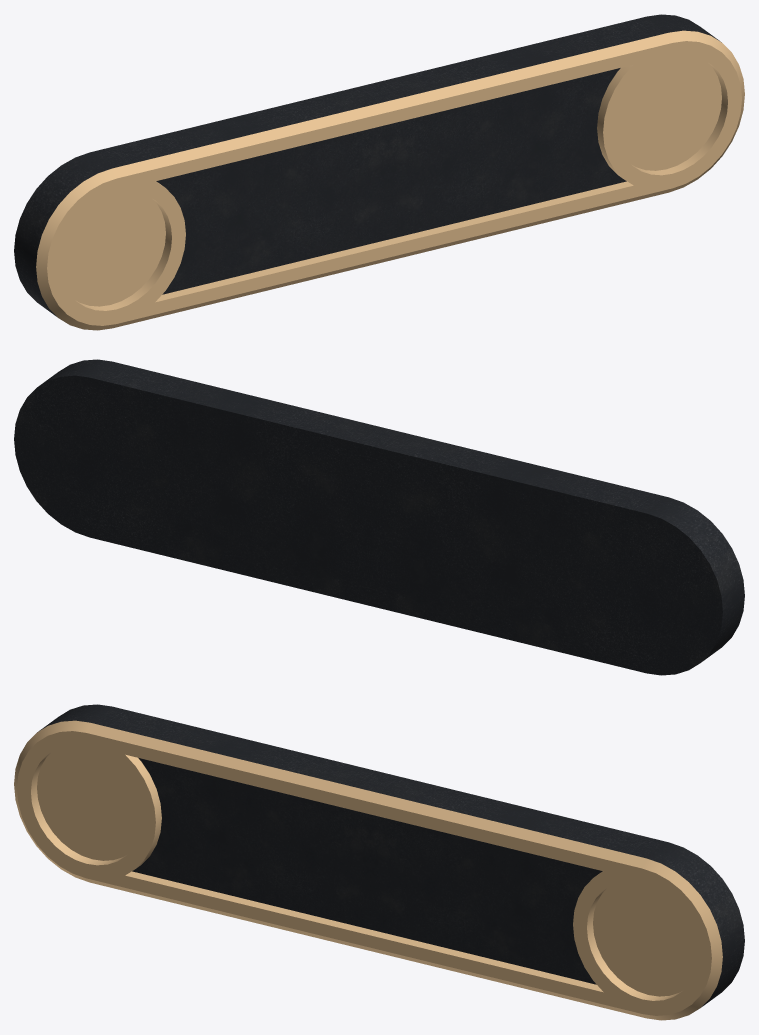
File: shopZoneSign.gltf
3 renders of one model, top to bottom at view 1: azimuth 30°, elevation 25°; view 2: azimuth 150°, elevation 25°; view 3: azimuth 330°, elevation 25°, orthographic.
Visible parts, largest first — view 1: shopZone.sign; view 2: shopZone.sign; view 3: shopZone.sign.
Boxes of the visible parts, x1=… form: shopZone.sign: x1=14, y1=14, x2=744, y2=330; shopZone.sign: x1=14, y1=359, x2=744, y2=675; shopZone.sign: x1=14, y1=704, x2=744, y2=1020.
Size of the model in its own units: 3.06 by 0.66 by 0.195.
Materials: 2 (1 with a texture image).
